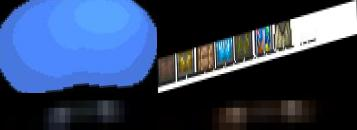breastplate: (157, 93, 357, 130), (0, 93, 157, 130)
slime: (0, 0, 157, 93)
